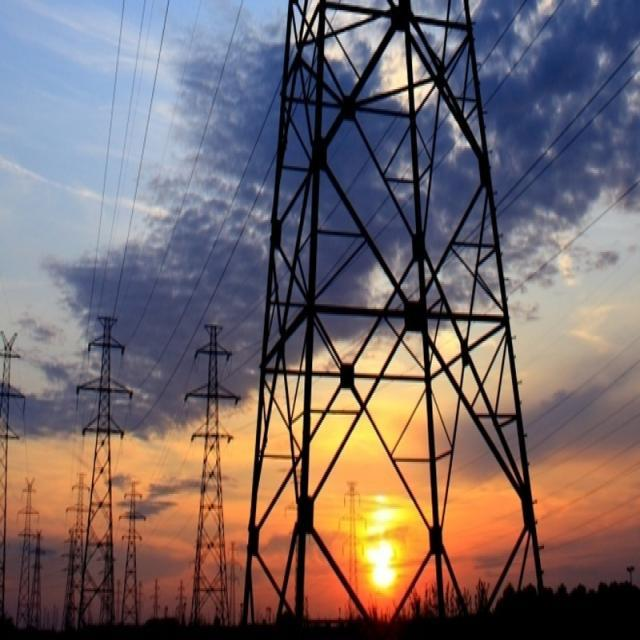non-critical vegetation: (254, 6, 550, 612), (170, 292, 237, 615), (63, 311, 126, 620)
